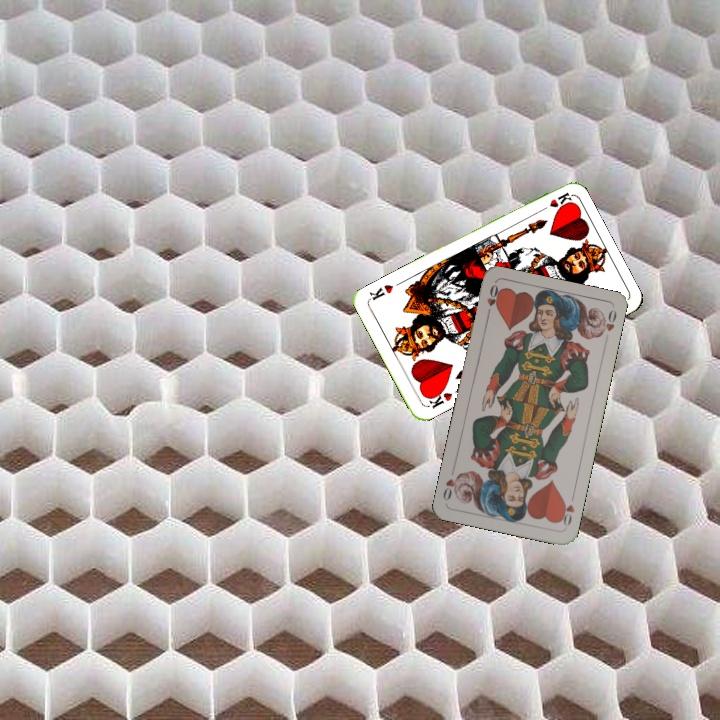HK: (534, 188, 573, 216), (423, 385, 455, 411)
HO: (483, 280, 503, 320), (556, 497, 577, 529)
